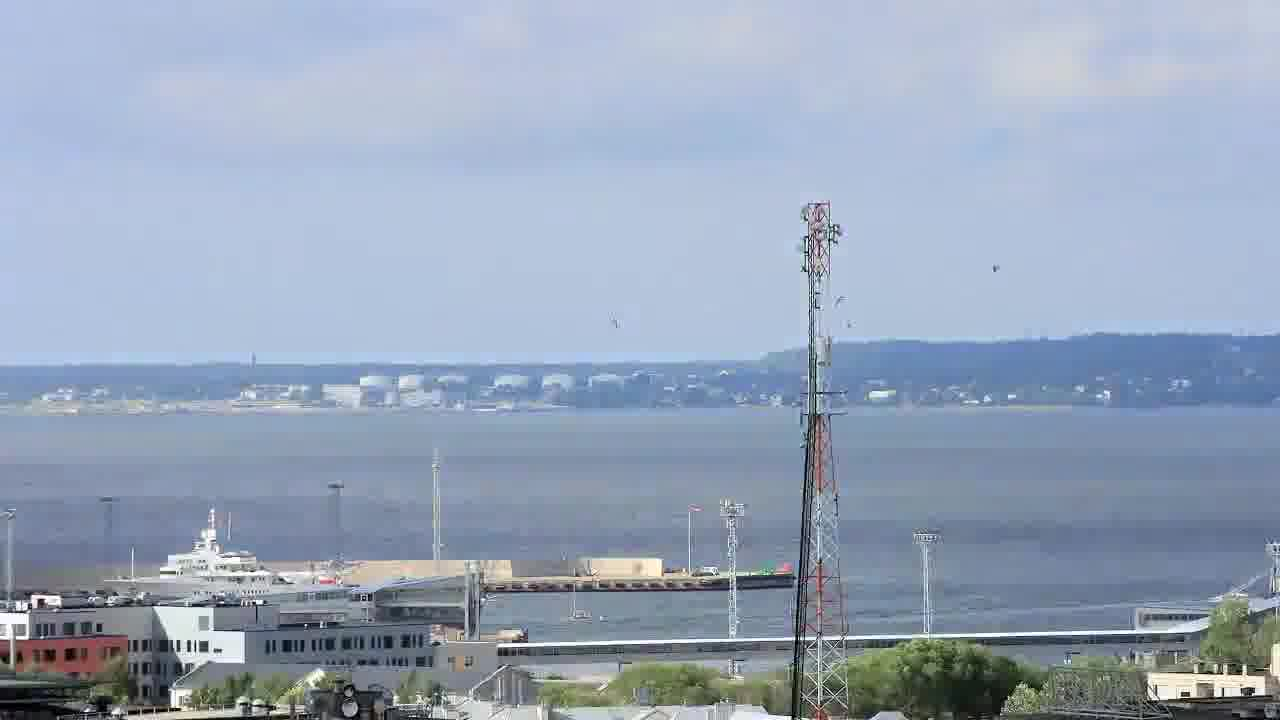type-0: (554, 582, 617, 636)
type-3: (72, 492, 370, 608)
